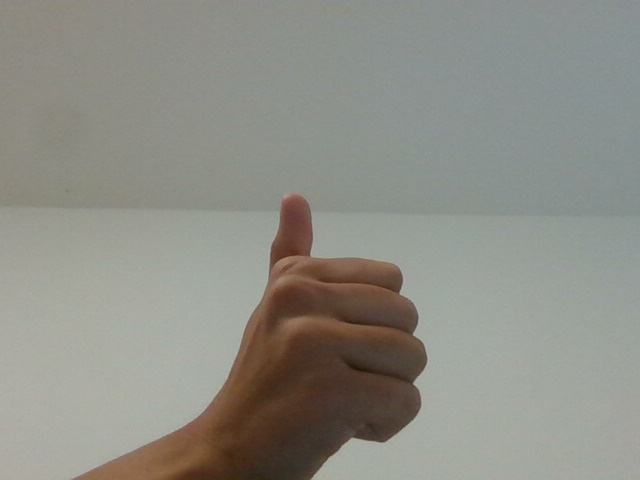Thumbs up: (178, 185, 482, 478)
